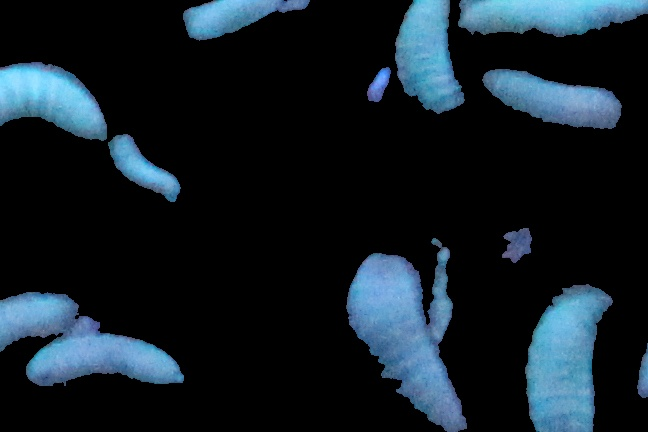larvae: (344, 251, 467, 432), (520, 276, 613, 432), (1, 65, 110, 169), (480, 72, 625, 139), (395, 1, 462, 127), (25, 334, 180, 385), (461, 1, 648, 39), (1, 289, 78, 368), (116, 134, 180, 206), (184, 1, 284, 44)
